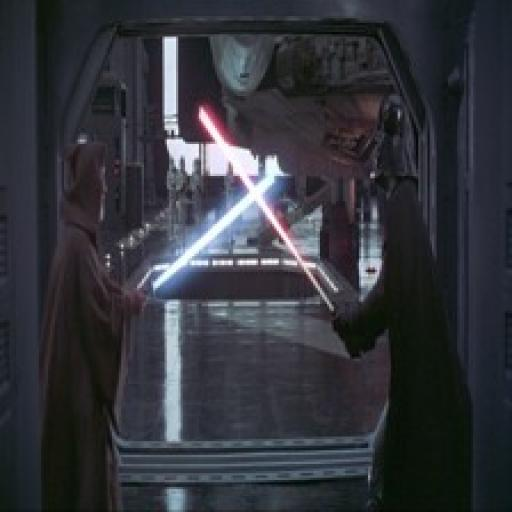human: (332, 90, 485, 505), (24, 142, 140, 510)
lightsaber: (121, 172, 280, 313)
sith saber: (204, 112, 354, 350)
